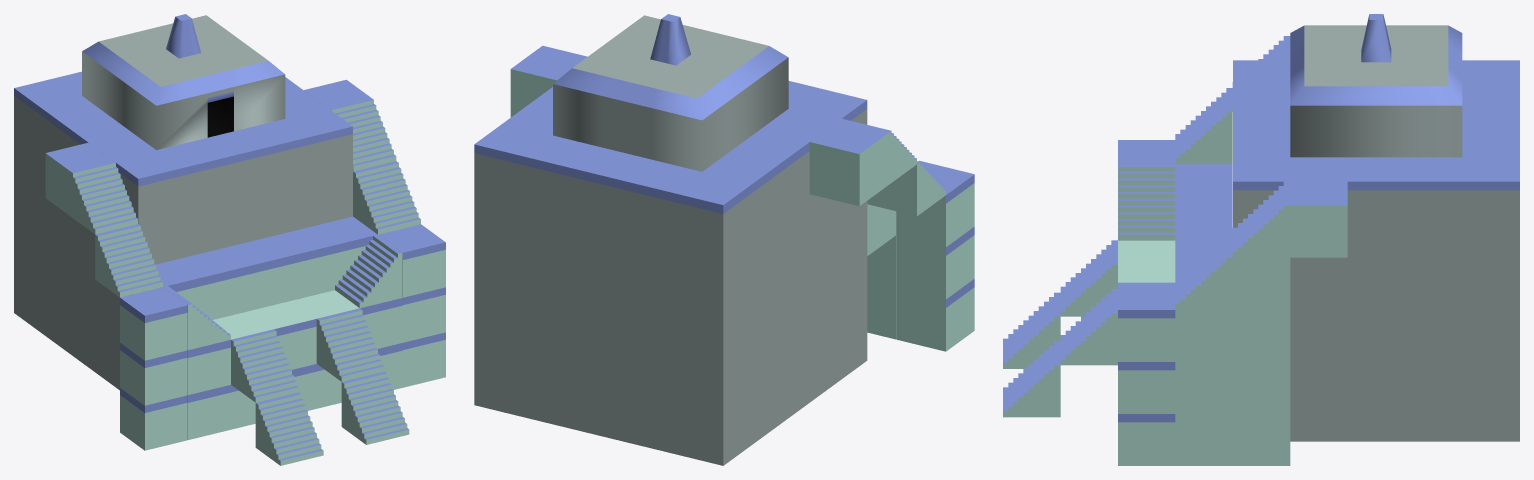
File: level 3.fbx
3 renders of one model, left to right at view 1: azimuth 30°, elevation 25°; view 2: azimuth 150°, elevation 25°; view 3: azimuth 270°, elevation 25°, orthographic. The views are drawn at different scales.
Parts seen in each view (by area): view 1: Cube, Cube.060, Cube.047, Cube.031, Cube.028, Cube.029, Cube.033, Cube.050, Cube.032, Cube.030, Cube.075, Cube.073 (+1 smaller); view 2: Cube, Cube.031, Cube.075, Cube.033, Cube.060, Cube.068, Cube.047; view 3: Cube, Cube.036, Cube.050, Cube.044, Cube.028, Cube.032, Cube.047, Cube.029, Cube.068, Cube.073, Cube.033, Cube.060 (+1 smaller).
Boxes of the visible parts, x1,y1,x2,y2 form: Cube: [14, 14, 352, 390]; Cube.060: [187, 290, 402, 439]; Cube.047: [156, 216, 377, 319]; Cube.031: [120, 287, 187, 450]; Cube.028: [316, 308, 409, 444]; Cube.029: [231, 329, 323, 465]; Cube.033: [70, 161, 162, 297]; Cube.050: [378, 224, 445, 387]; Cube.032: [329, 98, 420, 234]; Cube.030: [335, 234, 402, 307]; Cube.075: [45, 142, 112, 215]; Cube.073: [163, 286, 230, 349]; Cube: [474, 14, 867, 465]; Cube.031: [896, 162, 974, 351]; Cube.075: [809, 121, 888, 206]; Cube.033: [839, 118, 945, 216]; Cube.060: [867, 235, 896, 339]; Cube.068: [510, 48, 583, 117]; Cube.047: [867, 204, 896, 255]; Cube: [1233, 14, 1519, 441]; Cube.036: [1232, 258, 1290, 465]; Cube.050: [1118, 285, 1175, 465]; Cube.044: [1175, 310, 1232, 465]; Cube.028: [1003, 289, 1117, 417]; Cube.032: [1175, 181, 1290, 309]; Cube.047: [1175, 164, 1232, 279]; Cube.029: [1003, 240, 1117, 368]; Cube.068: [1290, 181, 1347, 257]; Cube.073: [1118, 164, 1175, 240]; Cube.033: [1175, 36, 1290, 164]; Cube.060: [1118, 240, 1175, 282].
Size of the model in its own units: 2800 by 2798 by 3599.
